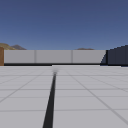obstacle: (1, 46, 4, 66)
